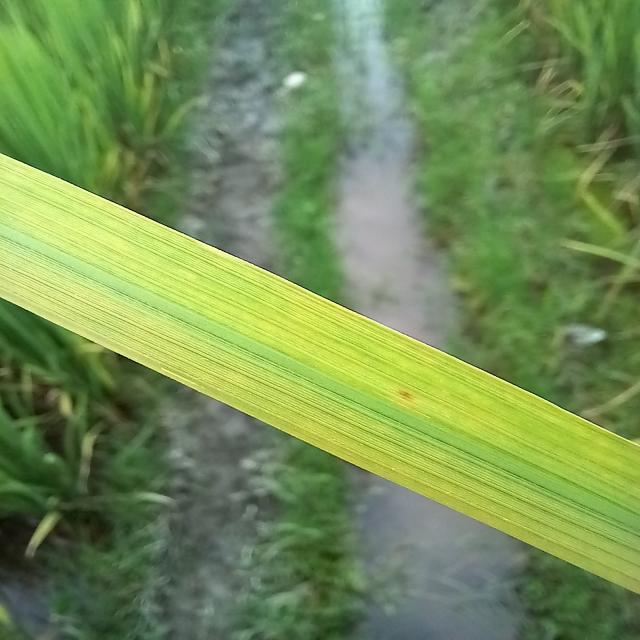Brown_Spot: (398, 391, 414, 401)
